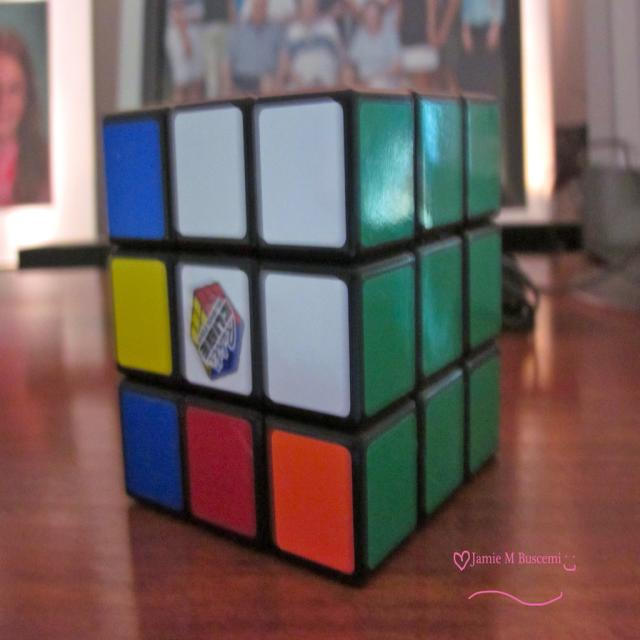Toy: (102, 88, 503, 586)
